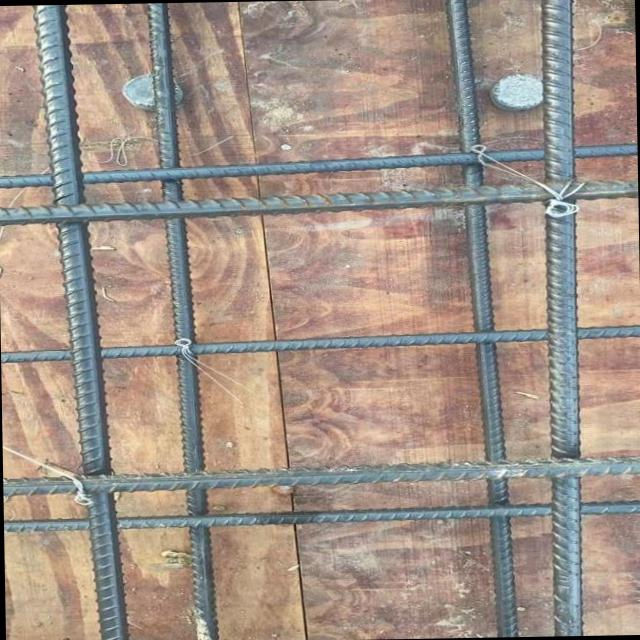ribbed bar: (29, 3, 129, 640), (442, 0, 519, 636), (145, 2, 220, 640), (533, 0, 585, 635), (0, 141, 636, 190), (0, 177, 636, 226), (1, 322, 638, 364), (2, 454, 640, 495), (3, 498, 640, 533)
